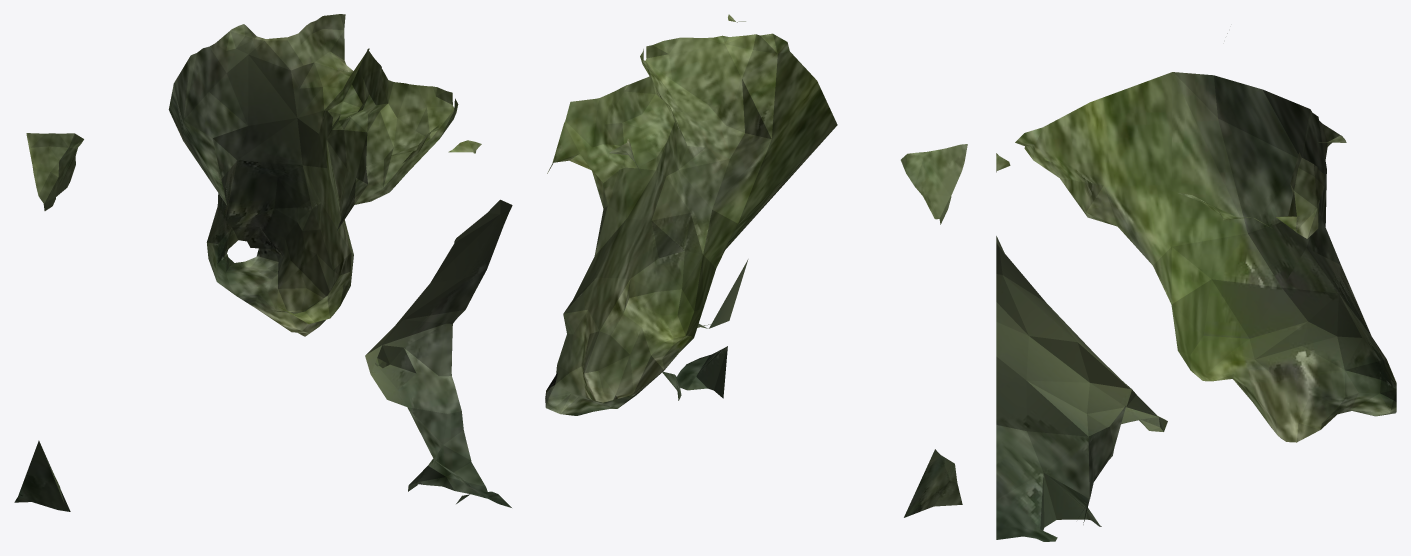
3 views of the same model, side by side, from view 1: azimuth 30°, elevation 25°; view 2: azimuth 150°, elevation 25°; view 3: azimuth 270°, elevation 25° (orthographic). The views are drawn at different scales.
Bounding box in the file's own units: 2.95 × 2.95 × 2.95.
4 materials, 4 textured.
